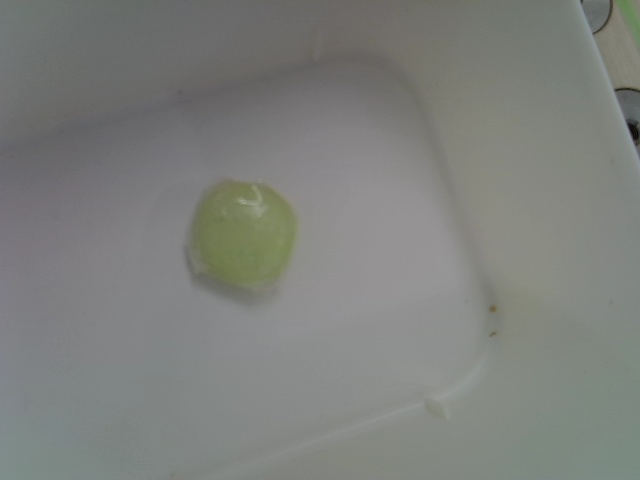씨앗: (191, 179, 300, 293)
